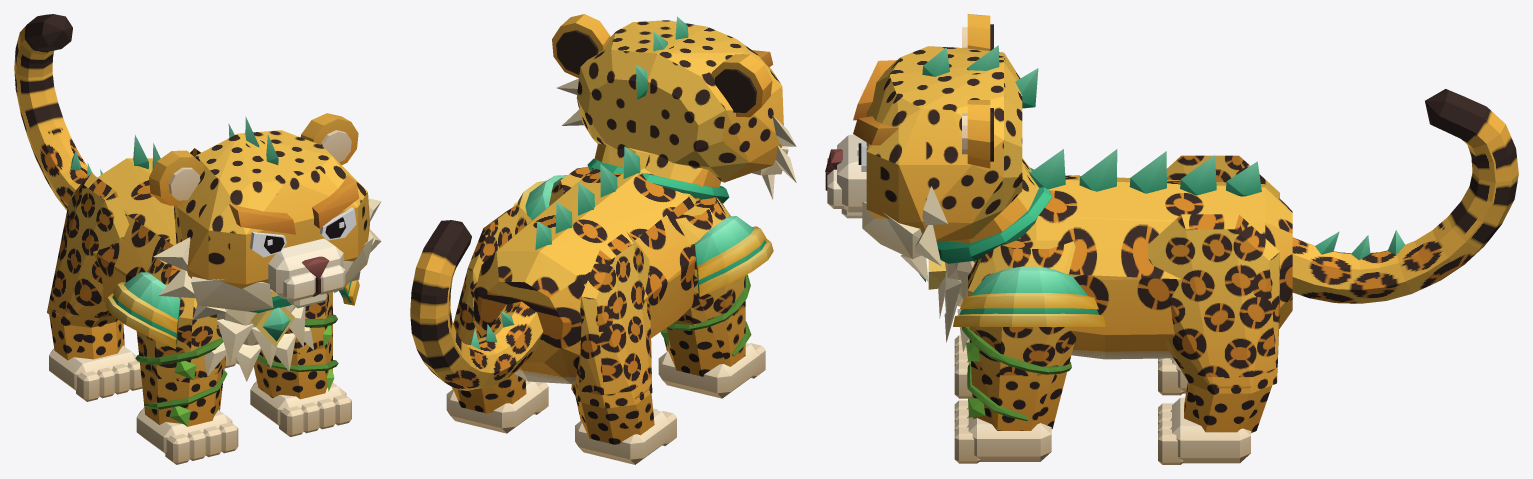
The model's file is JaguarJabber.glb.
The picture shows the model from 3 angles, left to right: view 1: azimuth 30°, elevation 25°; view 2: azimuth 150°, elevation 25°; view 3: azimuth 270°, elevation 25°; orthographic projection. The views are drawn at different scales.
Parts seen in each view (by area): view 1: JaguarJabber; view 2: JaguarJabber; view 3: JaguarJabber.
Part boxes in pixels (x1,y1,x2,y2): JaguarJabber: (14, 14, 381, 464); JaguarJabber: (410, 14, 796, 464); JaguarJabber: (825, 14, 1518, 464).
Bounding box in the file's own units: 0.6754 × 0.89 × 1.52.
1 material, 1 textured.
